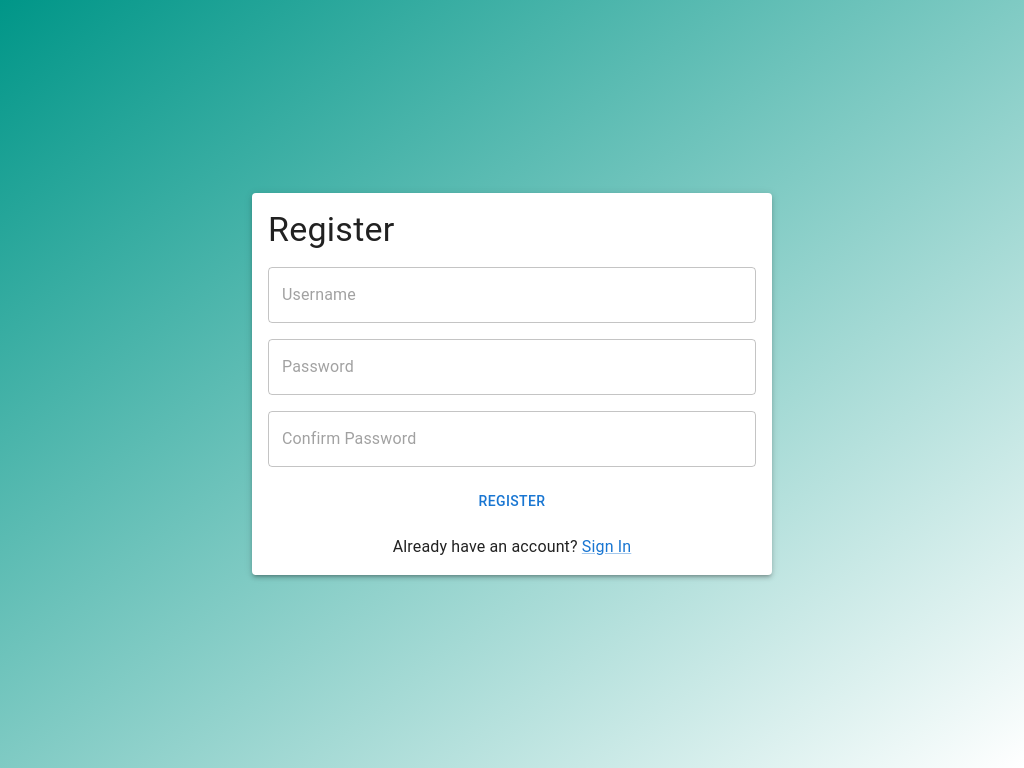
Test: that user is warned of empty fields
Click the button with test id "registerButton".
click(512, 501)  # box [268,483,756,519]
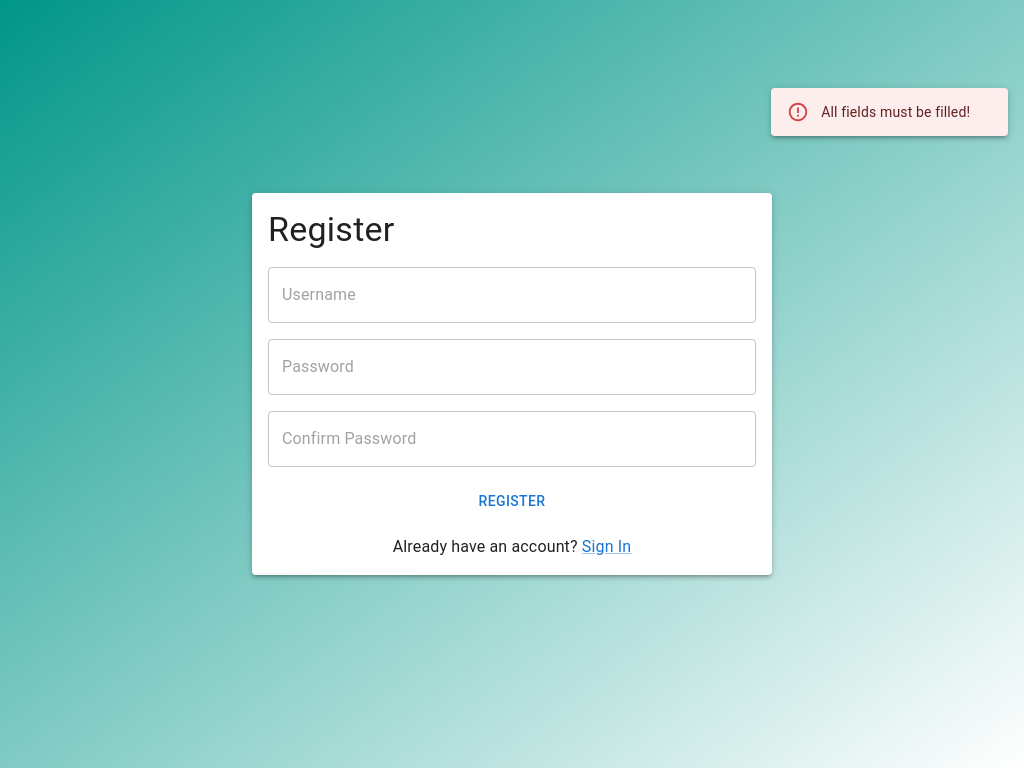
Check: the text "All fields must be filled!" is shown, box [821,104,970,120]
